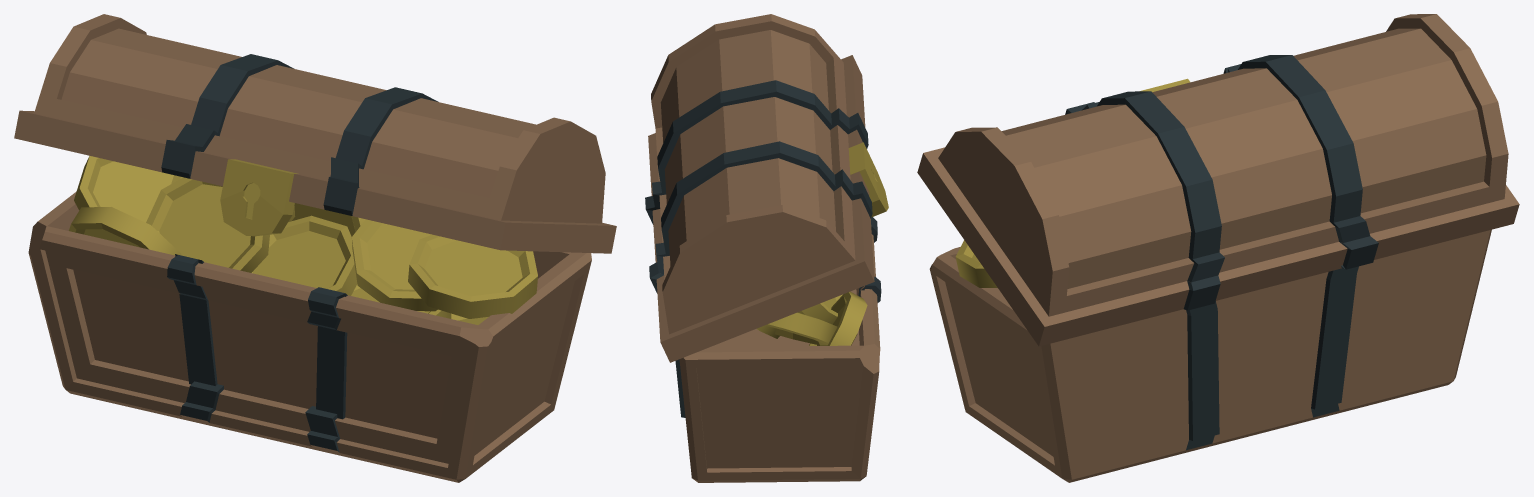
The model's file is treasure.fbx.
3 renders of one model, left to right at view 1: azimuth 30°, elevation 25°; view 2: azimuth 150°, elevation 25°; view 3: azimuth 270°, elevation 25°, orthographic. The views are drawn at different scales.
Parts seen in each view (by area): view 1: Chest.001, Cylinder011, Cylinder002, Cylinder010, Cylinder005, Chest_lock, Cylinder001, Cylinder012, Cylinder004; view 2: Chest.001, Cylinder001, Cylinder012, Chest_lock, Cylinder002; view 3: Chest.001, Cylinder011.
Boxes of the visible parts, x1=… form: Chest.001: x1=14, y1=14, x2=616, y2=482; Cylinder011: x1=408, y1=234, x2=537, y2=318; Cylinder002: x1=146, y1=177, x2=269, y2=272; Cylinder010: x1=252, y1=215, x2=357, y2=295; Cylinder005: x1=351, y1=219, x2=437, y2=311; Chest_lock: x1=220, y1=159, x2=298, y2=236; Cylinder001: x1=74, y1=155, x2=173, y2=222; Cylinder012: x1=69, y1=207, x2=181, y2=255; Cylinder004: x1=292, y1=203, x2=365, y2=236; Chest.001: x1=645, y1=14, x2=881, y2=482; Cylinder001: x1=765, y1=312, x2=837, y2=345; Cylinder012: x1=809, y1=291, x2=867, y2=345; Chest_lock: x1=848, y1=142, x2=888, y2=217; Cylinder002: x1=802, y1=294, x2=842, y2=324; Chest.001: x1=917, y1=14, x2=1519, y2=482; Cylinder011: x1=955, y1=240, x2=997, y2=287.
Size of the model in its own units: 23.94 by 17.31 by 28.92.
